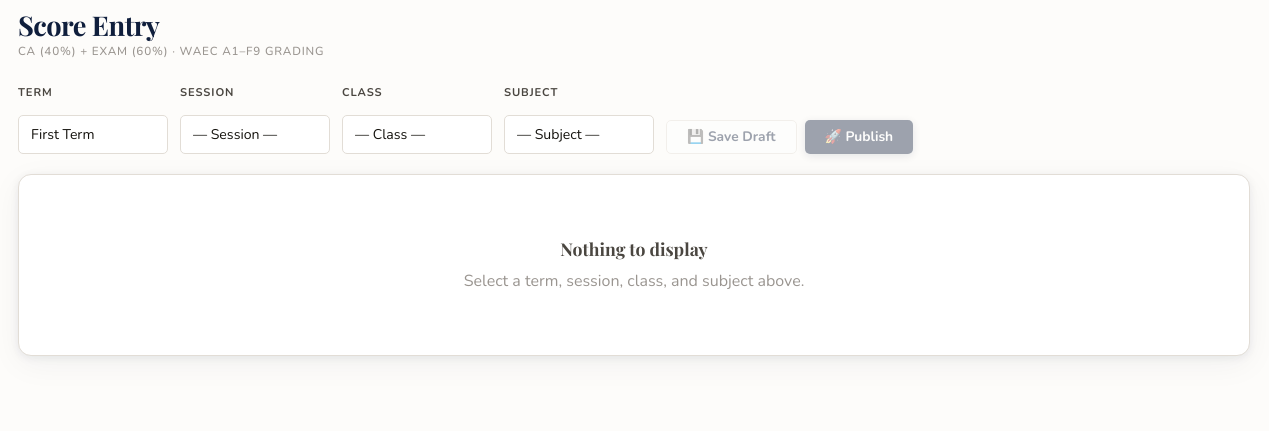
Test: teacher saves scores with publish=false using backend payload fields
Select "2026/2027" in the 2nd dropdown at (255, 134), box top-left (180, 115), bottom-right (330, 154)
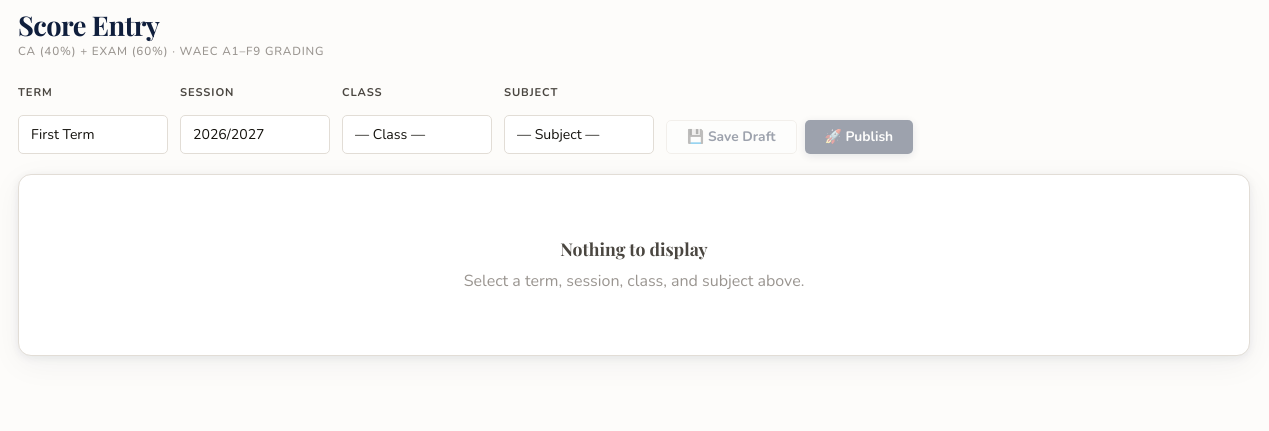
Select "JSS1 A" in the 3rd dropdown at (417, 134), box top-left (342, 115), bottom-right (492, 154)
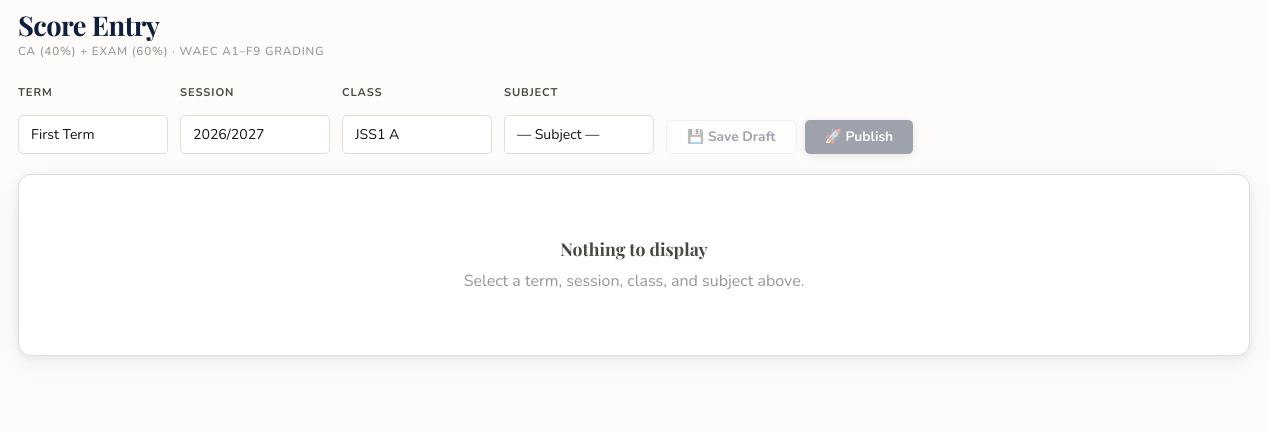
Select "Mathematics" in the 4th dropdown at (579, 134), box top-left (504, 115), bottom-right (654, 154)
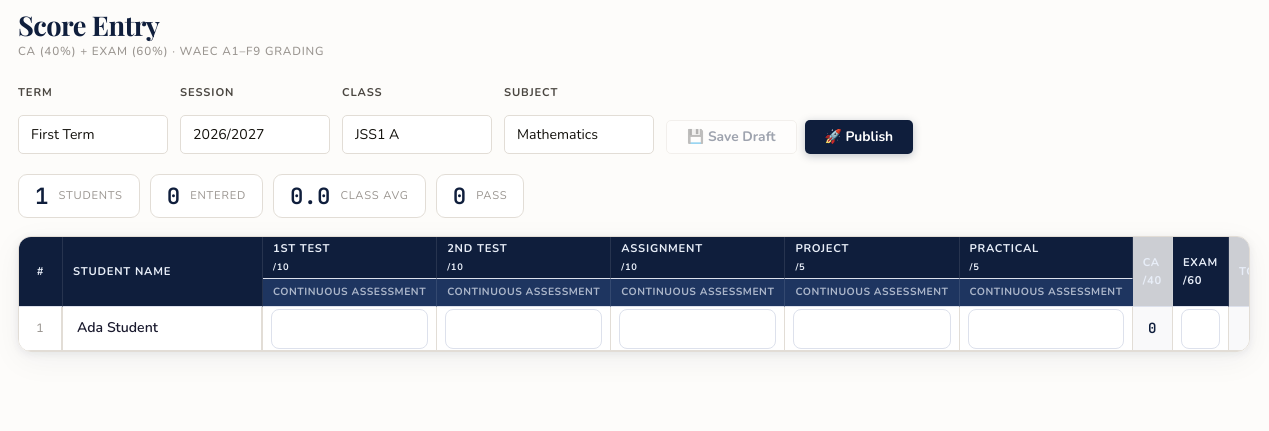
Check: the text "Ada Student" is shown, box top-left (63, 307), bottom-right (263, 351)
Type "8" into the number field named "1st Test" at (350, 329), box top-left (271, 309), bottom-right (428, 349)
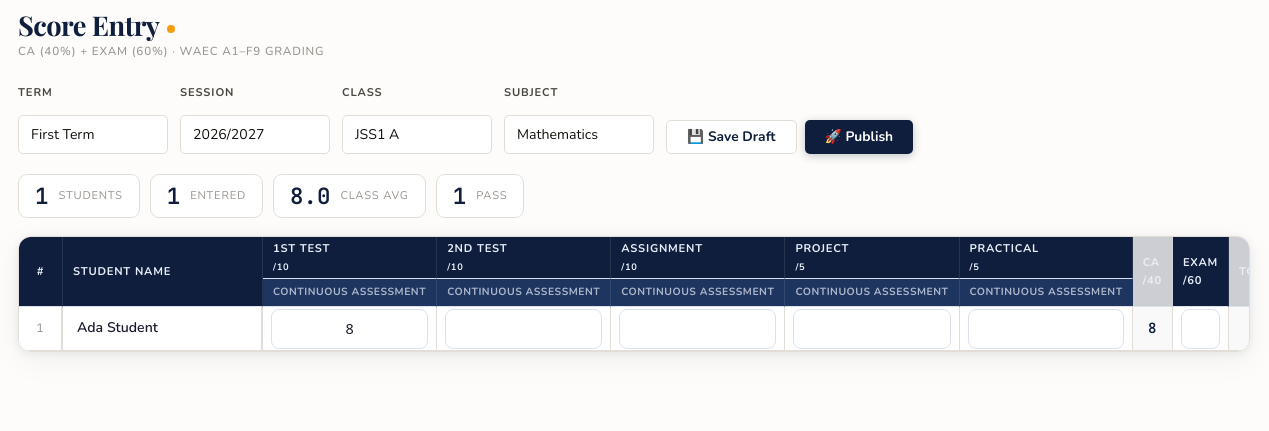
Click the button "💾 Save Draft" at (731, 137), box top-left (666, 120), bottom-right (796, 154)
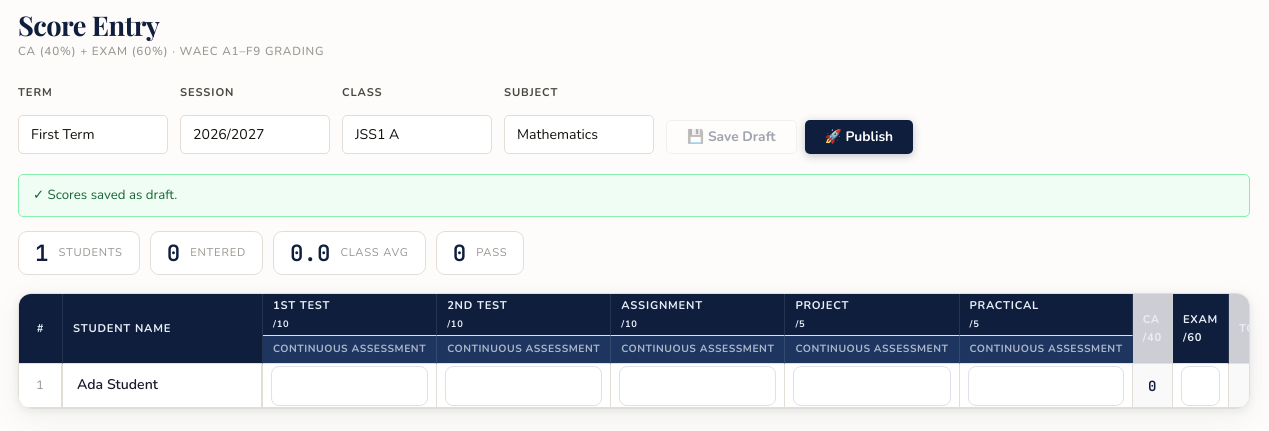
Check: the text "✓ Scores saved as draft." is shown, box top-left (18, 174), bottom-right (1250, 217)
